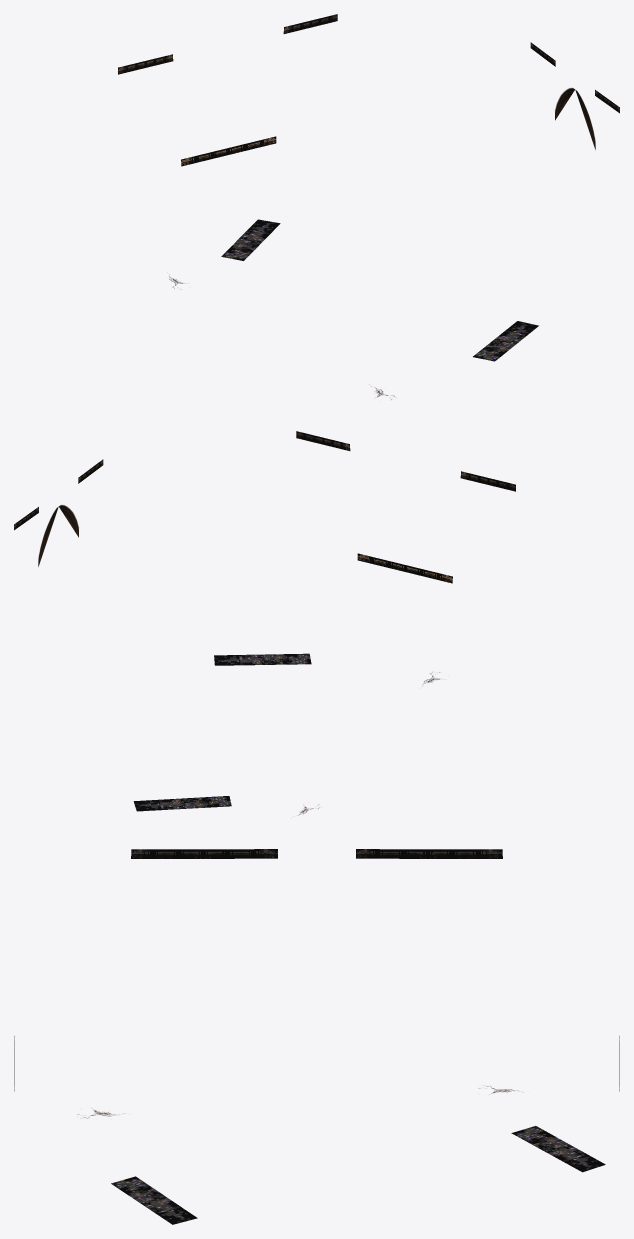
The model's file is test-decals_layer1-opt.glb.
3 views of the same model, one above another, from view 1: azimuth 30°, elevation 25°; view 2: azimuth 150°, elevation 25°; view 3: azimuth 270°, elevation 25° (orthographic). The views are drawn at different scales.
Parts seen in each view (by area): view 1: wall_decals_layer1; view 2: wall_decals_layer1; view 3: wall_decals_layer1.
Boxes of the visible parts, box(x1,y1,x2,y2) form: wall_decals_layer1: box(118, 14, 619, 399); wall_decals_layer1: box(14, 431, 515, 815); wall_decals_layer1: box(14, 849, 619, 1224).
Size of what is drawn, in the model's own units: 329 by 119 by 295.
4 materials, 4 textured.
